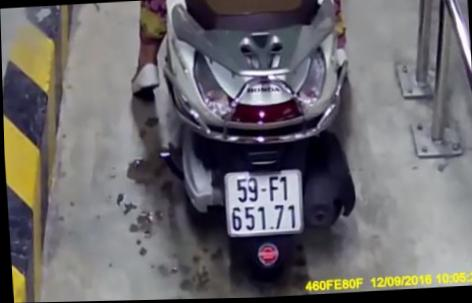LP: (222, 166, 306, 240)
